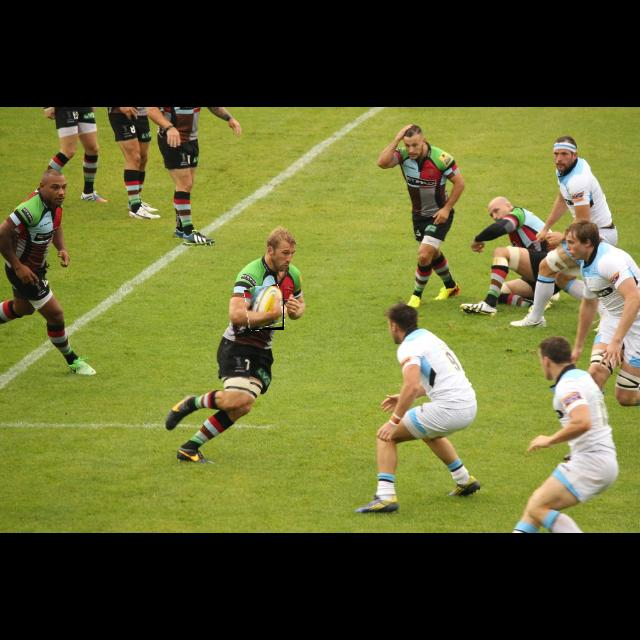Football: (246, 286, 284, 330)
